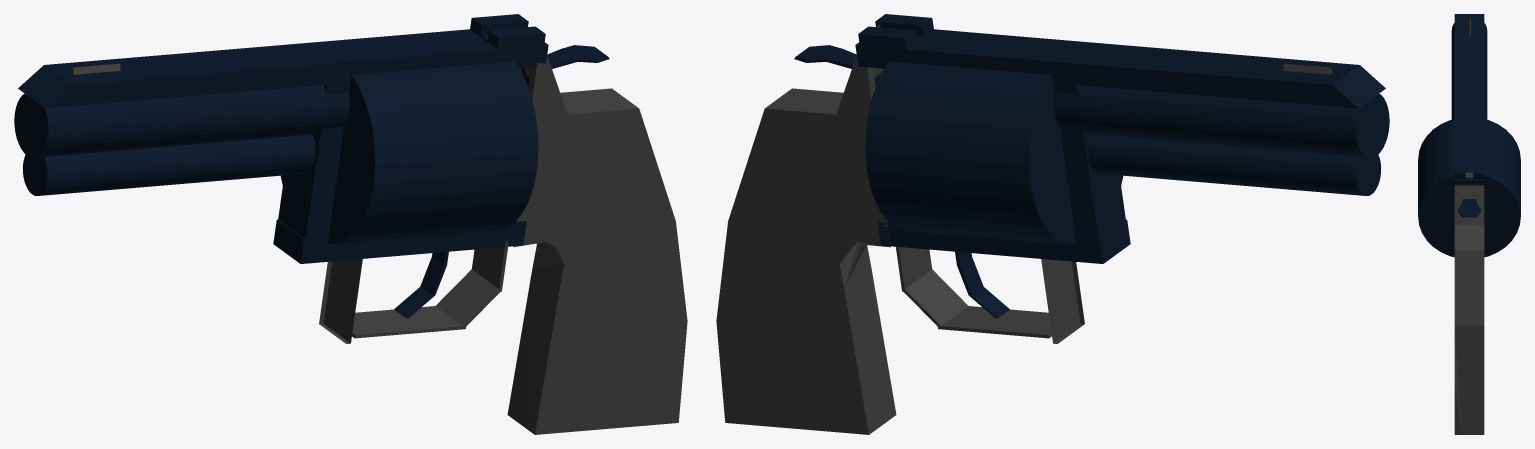
File: revolver0003.obj
The picture shows the model from 3 angles, left to right: view 1: azimuth 30°, elevation 25°; view 2: azimuth 150°, elevation 25°; view 3: azimuth 270°, elevation 25°; orthographic projection. The views are drawn at different scales.
Parts seen in each view (by area): view 1: Cube, bulletCylinder, upperFrame, barrel, cleaningRod, Cube.002, Cube.001, triggerGuard.002, Cube.003, triggerGuard.001, trigger, triggerGuard (+1 smaller); view 2: Cube, bulletCylinder, upperFrame, barrel, cleaningRod, Cube.002, Cube.001, triggerGuard.002, Cube.003, triggerGuard.001, trigger, triggerGuard (+1 smaller); view 3: bulletCylinder, Cube, upperFrame, barrel, Cube.003, trigger2.
Part boxes in pixels (<box>): Cube: <box>319,24,687,434</box>; bulletCylinder: <box>280,61,538,244</box>; upperFrame: <box>18,29,548,108</box>; barrel: <box>14,85,349,157</box>; cleaningRod: <box>22,134,315,195</box>; Cube.002: <box>278,69,362,250</box>; Cube.001: <box>273,219,526,263</box>; triggerGuard.002: <box>352,306,466,338</box>; Cube.003: <box>470,14,545,50</box>; triggerGuard.001: <box>436,269,501,327</box>; trigger: <box>394,251,448,318</box>; triggerGuard: <box>472,241,508,291</box>; Cube: <box>716,24,1084,434</box>; bulletCylinder: <box>865,61,1123,244</box>; upperFrame: <box>855,29,1385,108</box>; barrel: <box>1054,85,1389,157</box>; cleaningRod: <box>1088,134,1381,195</box>; Cube.002: <box>1047,70,1125,250</box>; Cube.001: <box>877,219,1130,263</box>; triggerGuard.002: <box>937,306,1051,338</box>; Cube.003: <box>858,14,933,51</box>; triggerGuard.001: <box>902,269,967,327</box>; trigger: <box>955,251,1009,318</box>; triggerGuard: <box>895,241,931,291</box>; bulletCylinder: <box>1418,119,1520,257</box>; Cube: <box>1454,172,1484,434</box>; upperFrame: <box>1454,14,1484,185</box>; barrel: <box>1451,23,1487,119</box>; Cube.003: <box>1454,157,1484,178</box>; trigger2: <box>1458,199,1480,217</box>.
Bounding box in the file's own units: 2.73 × 1.98 × 0.6981.
